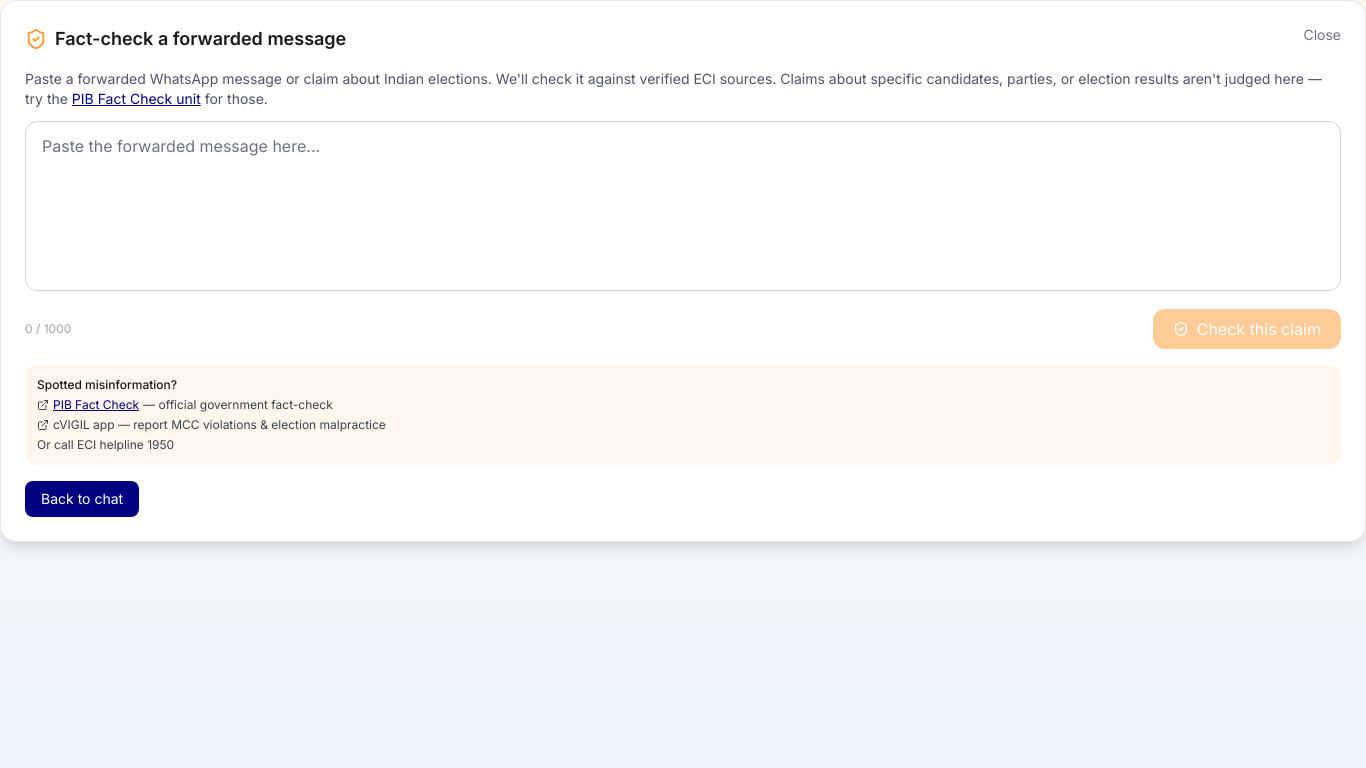
Test case: FactChecker › shows the unverifiable verdict when Gemini cannot judge
Type "A specific candidate is corrupt" into the text box with placeholder "Paste the forwarded message here..." at (683, 206), box 25,121 -> 1341,291
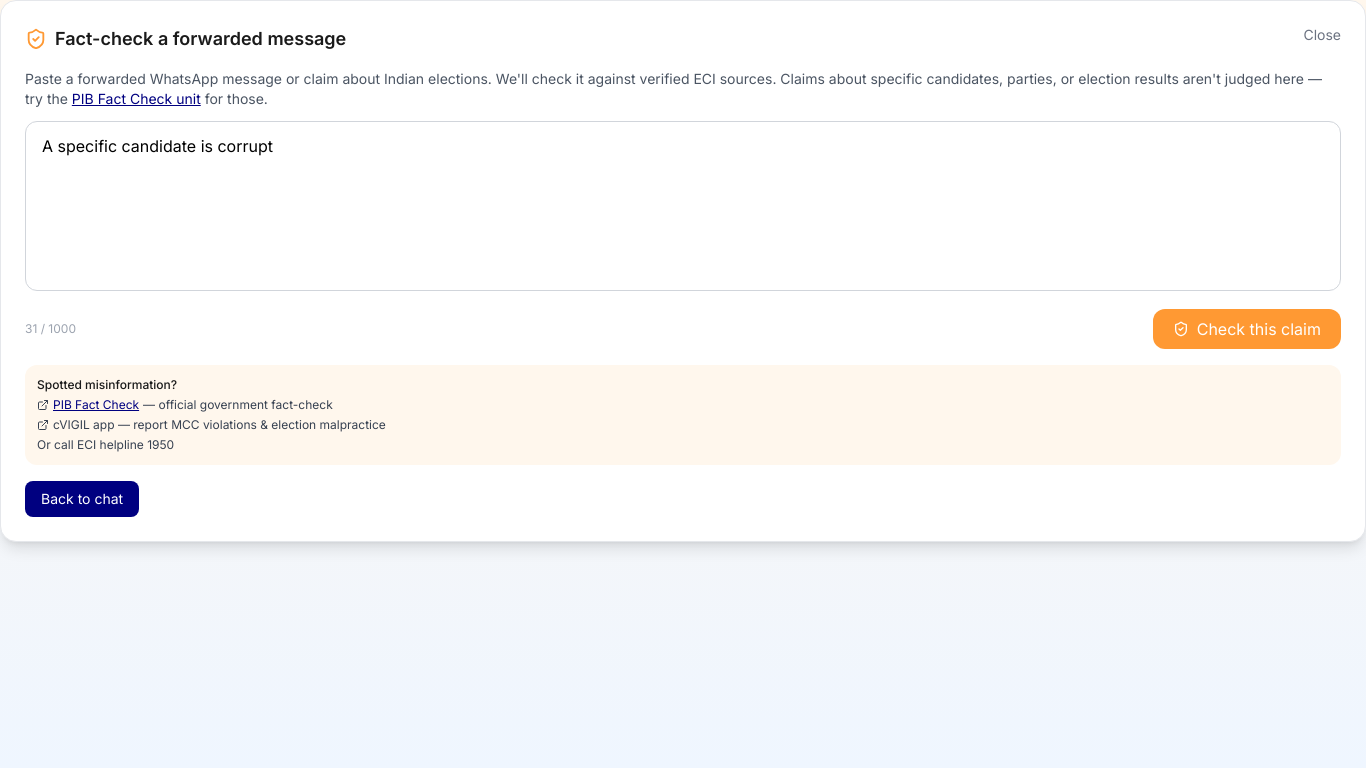
Click the button "Check this claim" at (1247, 329), box 1153,309 -> 1341,349
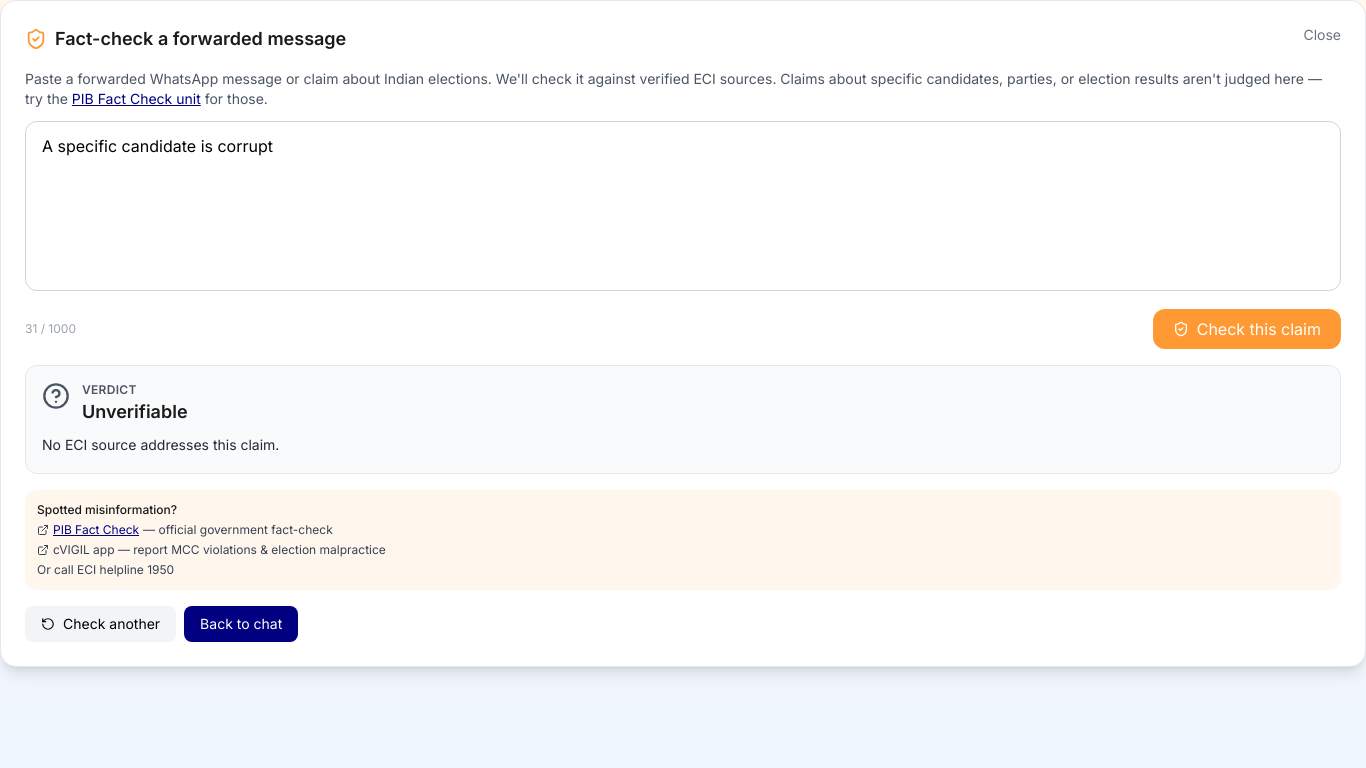
Now the heading "Unverifiable" is shown, box 82,401 -> 188,422
